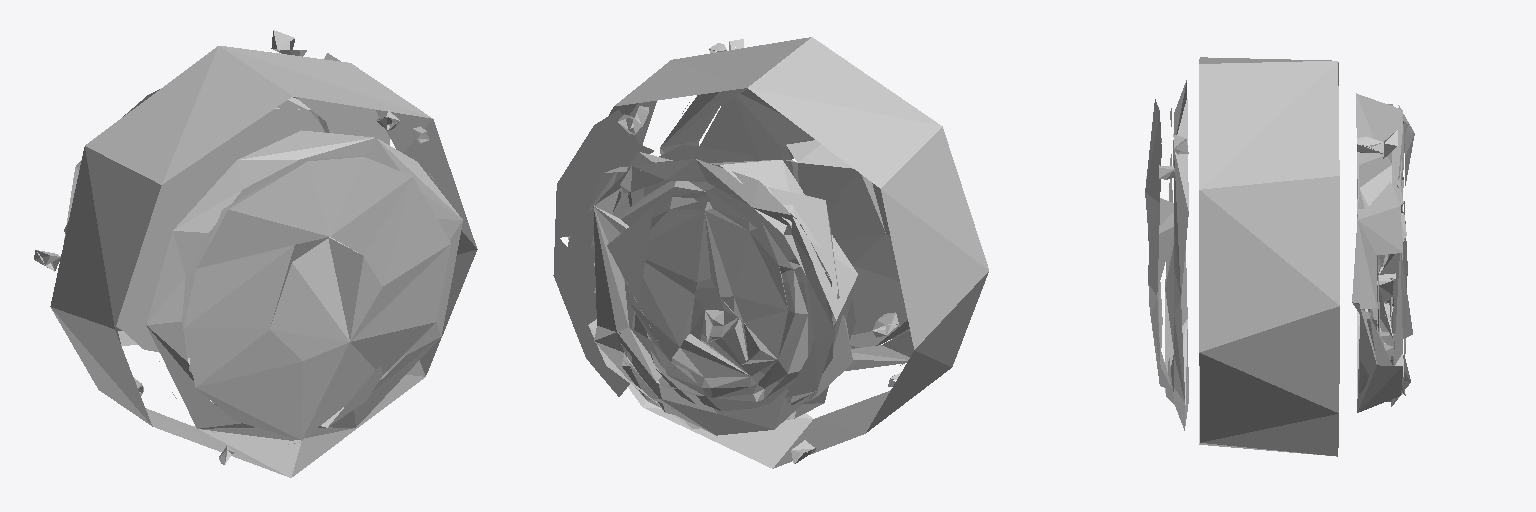
The picture shows the model from 3 angles: view 1: azimuth 30°, elevation 25°; view 2: azimuth 150°, elevation 25°; view 3: azimuth 270°, elevation 25°; orthographic projection.
Parts seen in each view (by area): view 1: link0_1; view 2: link0_1; view 3: link0_1.
Part boxes in pixels (bbox=[...]): link0_1: bbox=[34, 30, 477, 477]; link0_1: bbox=[553, 37, 988, 468]; link0_1: bbox=[1145, 57, 1414, 456].
Size of the model in its own units: 100 by 101 by 64.47.